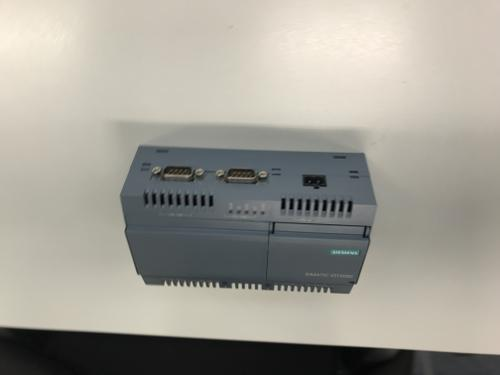device: (120, 145, 379, 295)
